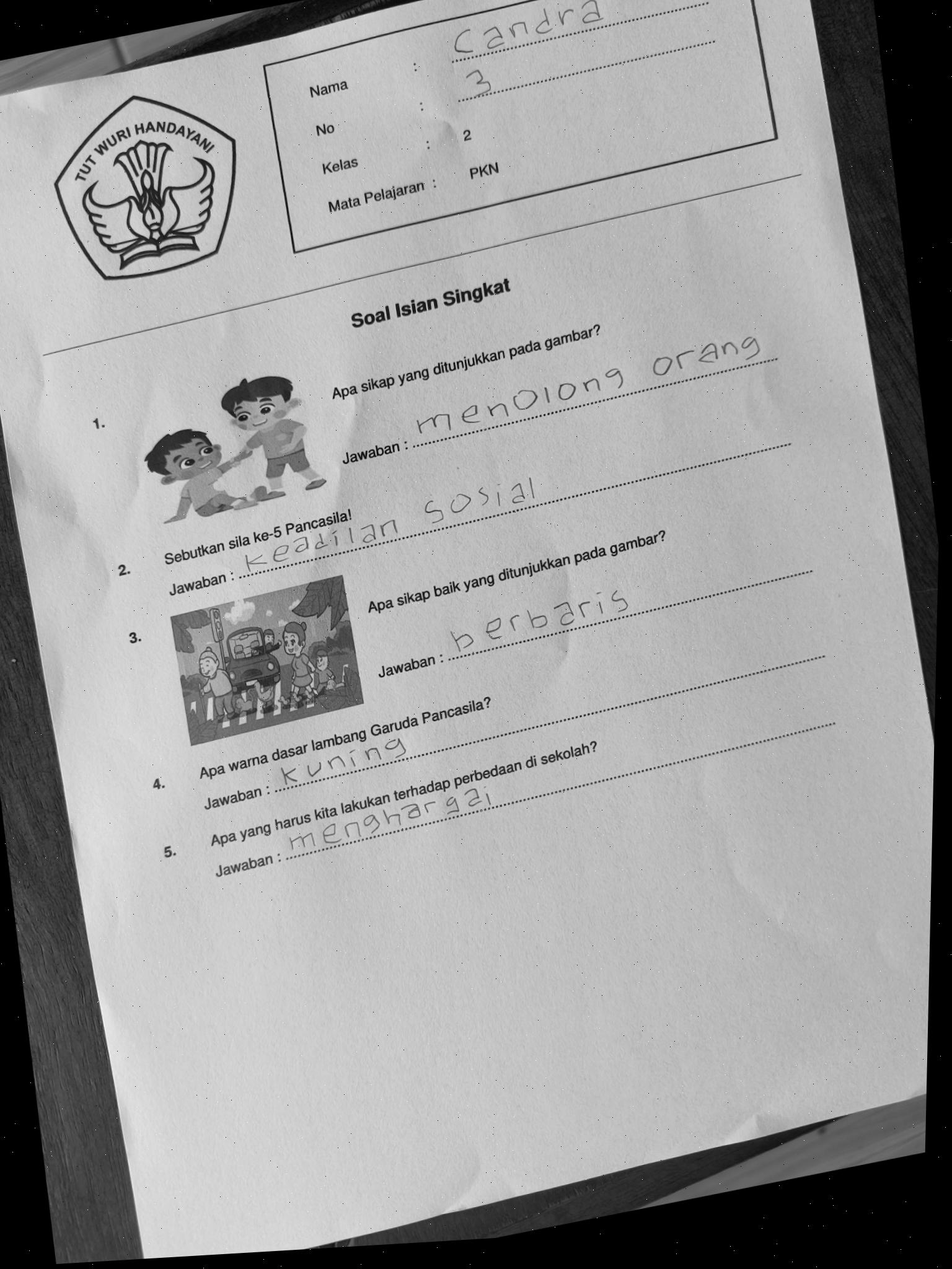soal-1: (83, 245, 802, 540)
soal-2: (107, 376, 817, 617)
soal-3: (116, 454, 836, 767)
soal-4: (137, 591, 852, 837)
soal-5: (150, 664, 859, 906)
